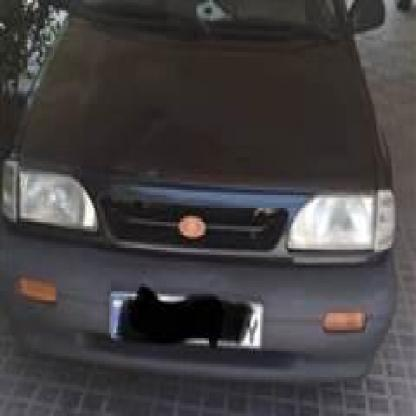Car: (0, 0, 395, 408)
